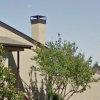Chimney: (23, 9, 51, 43)
